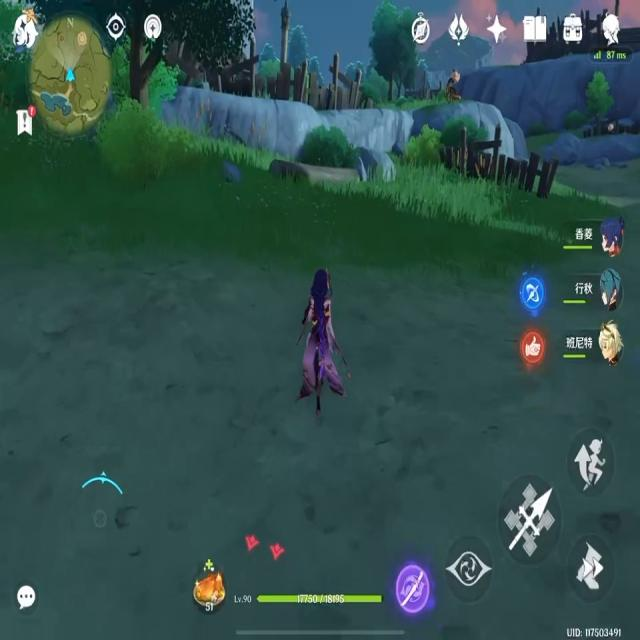genshin-hilichurls: (445, 70, 467, 100)
